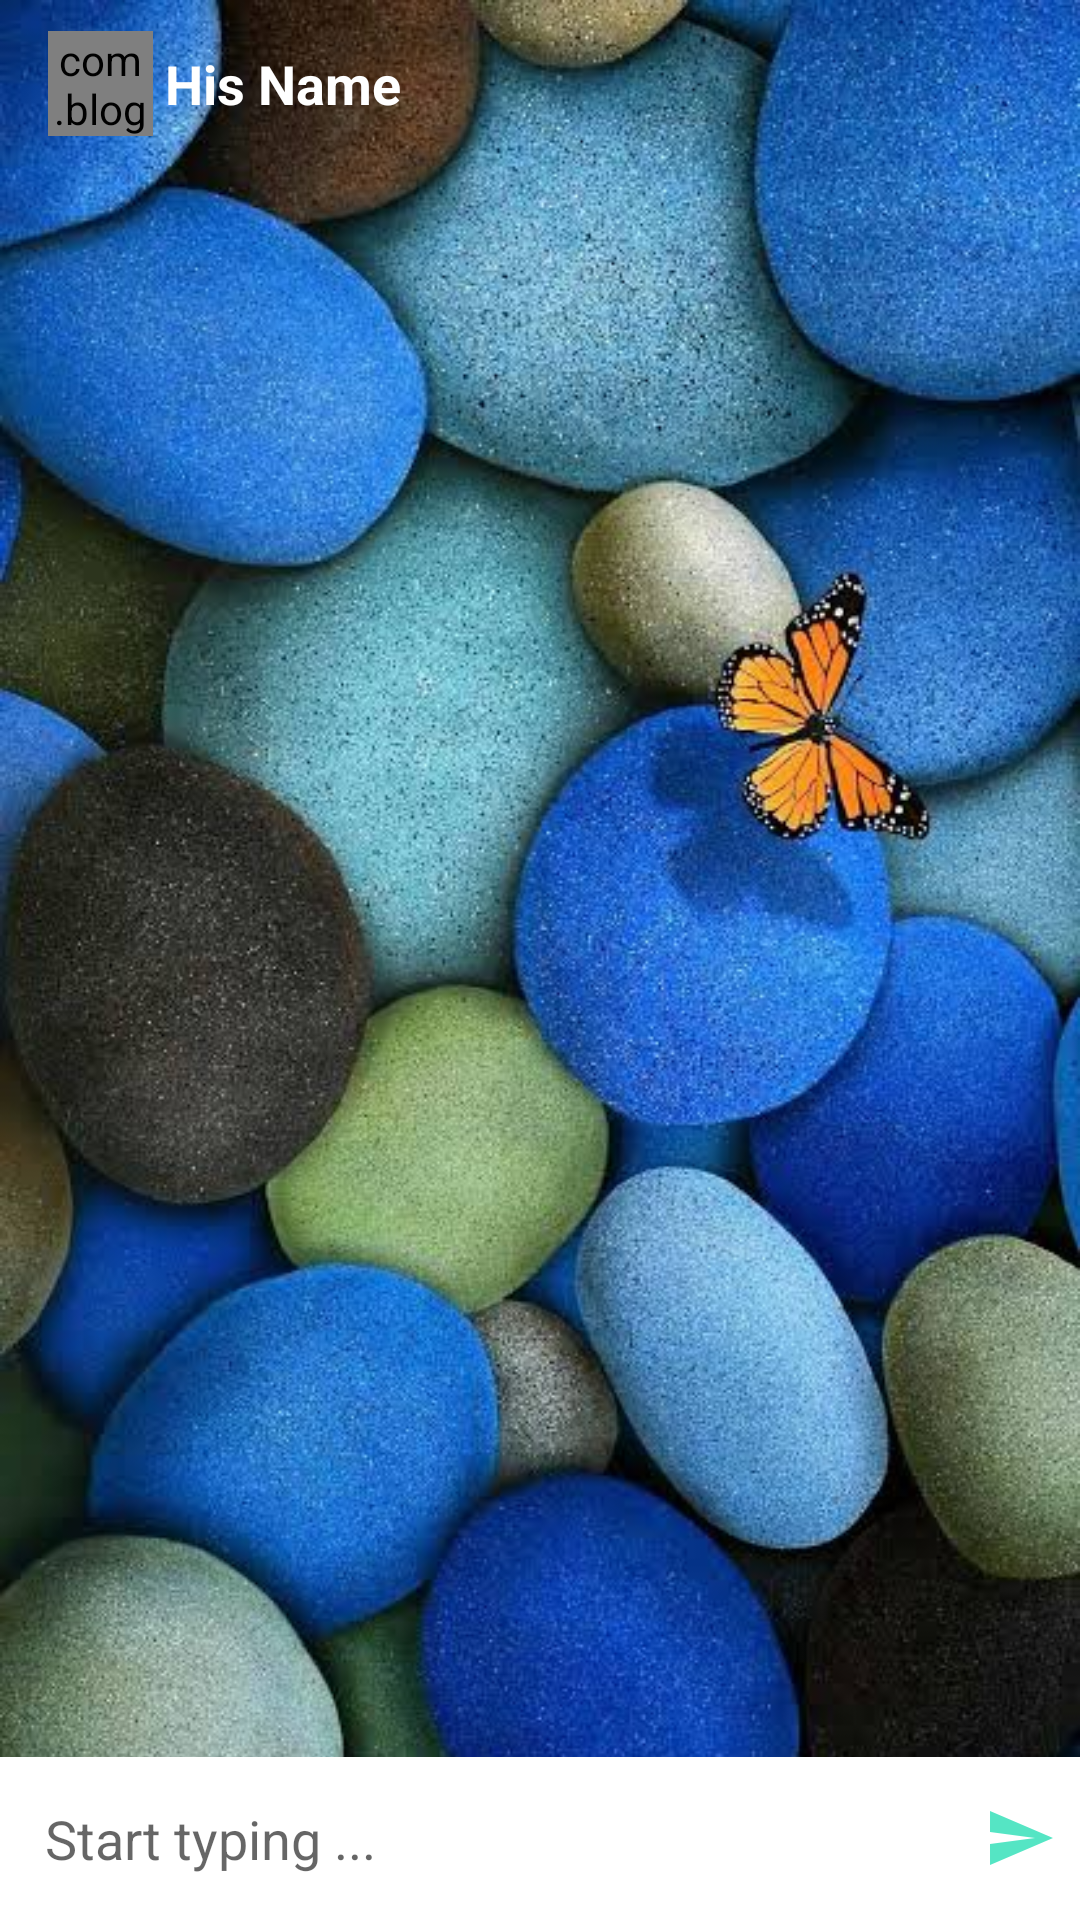

Where icons sit on this 1080 x 1920 app screen, as (x1, y1, x2, y2):
send: (990, 1811, 1053, 1865)
